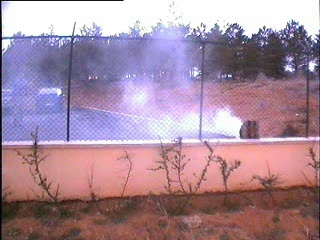smoke: (95, 24, 244, 138)
